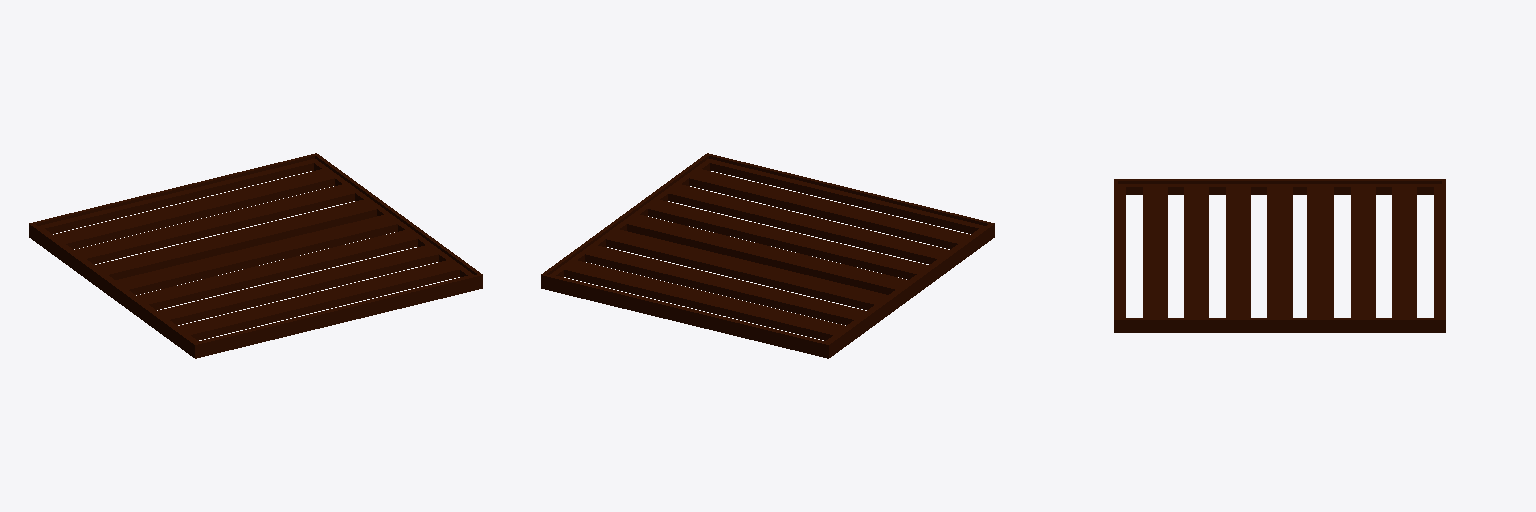
Rendered from 4x4_catwalk.obj.
3 views of the same model, side by side, from view 1: azimuth 30°, elevation 25°; view 2: azimuth 150°, elevation 25°; view 3: azimuth 270°, elevation 25° (orthographic).
Visible parts, largest first — view 1: catwalk; view 2: catwalk; view 3: catwalk.
Part boxes in pixels (left/top/right/bottom): catwalk: left=29, top=153, right=482, bottom=358; catwalk: left=541, top=153, right=994, bottom=358; catwalk: left=1114, top=179, right=1445, bottom=332.
Size of the model in its own units: 4 by 0.18 by 4.